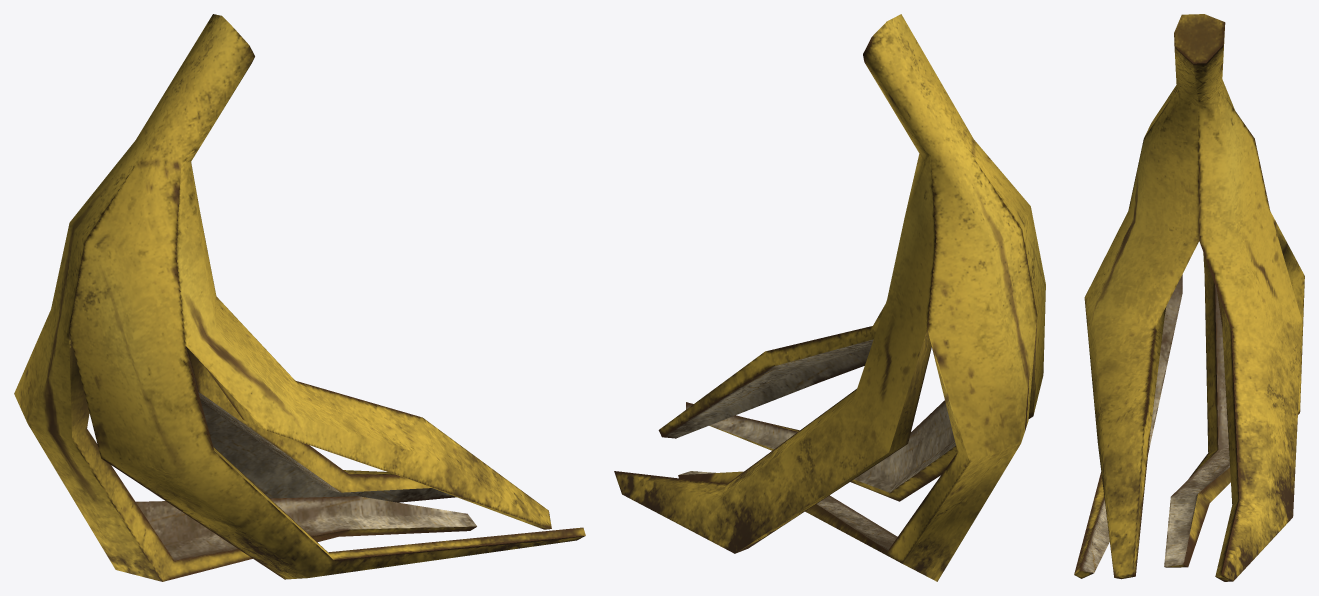
Rendered from Banana.fbx.
3 views of the same model, side by side, from view 1: azimuth 30°, elevation 25°; view 2: azimuth 150°, elevation 25°; view 3: azimuth 270°, elevation 25° (orthographic). The views are drawn at different scales.
Parts seen in each view (by area): view 1: Banana_Peel_GEO; view 2: Banana_Peel_GEO; view 3: Banana_Peel_GEO.
Boxes of the visible parts, box(x1,y1,x2,y2) form: Banana_Peel_GEO: box(14, 14, 585, 581); Banana_Peel_GEO: box(614, 14, 1045, 581); Banana_Peel_GEO: box(1074, 14, 1304, 581).
Bounding box in the file's own units: 15.47 × 18 × 8.15.
Materials: 1 (1 with a texture image).
